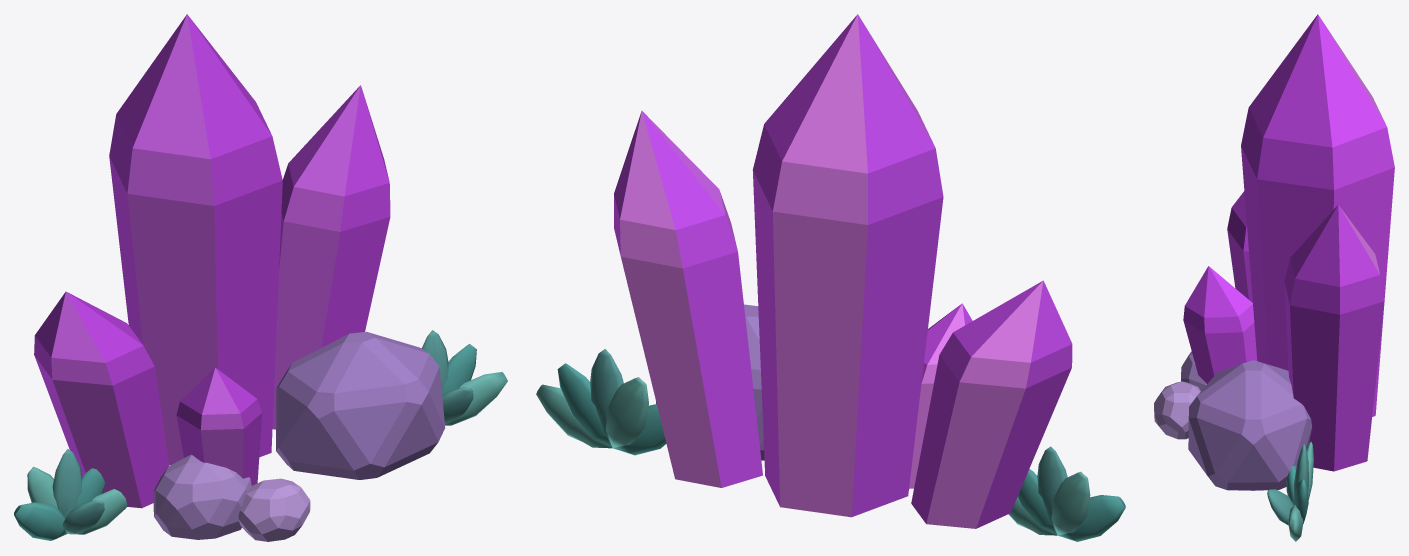
File: crystal_cluster_NEW.glb
3 renders of one model, left to right at view 1: azimuth 30°, elevation 25°; view 2: azimuth 150°, elevation 25°; view 3: azimuth 270°, elevation 25°, orthographic. The views are drawn at different scales.
Visible parts, largest first — view 1: crystal_cluster_NEW_visual; view 2: crystal_cluster_NEW_visual; view 3: crystal_cluster_NEW_visual.
Part boxes in pixels (x1,y1,x2,y2): crystal_cluster_NEW_visual: (14, 14, 507, 541); crystal_cluster_NEW_visual: (536, 14, 1125, 541); crystal_cluster_NEW_visual: (1154, 14, 1394, 541).
Bounding box in the file's own units: 2.21 × 1.9 × 1.01.
